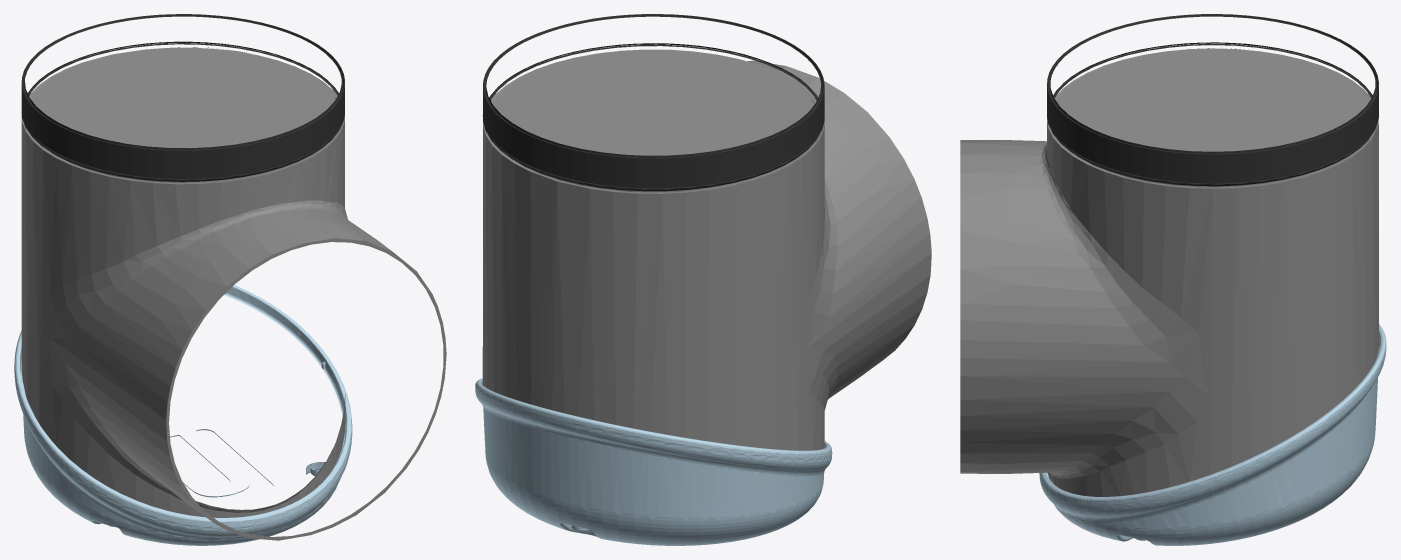
Rendered from wrist1.glb.
The picture shows the model from 3 angles, left to right: view 1: azimuth 30°, elevation 25°; view 2: azimuth 150°, elevation 25°; view 3: azimuth 270°, elevation 25°; orthographic projection. The views are drawn at different scales.
Visible parts, largest first — view 1: eSeries_UR10e_037, eSeries_UR10e_021, eSeries_UR10e_022; view 2: eSeries_UR10e_037, eSeries_UR10e_021, eSeries_UR10e_022; view 3: eSeries_UR10e_037, eSeries_UR10e_021, eSeries_UR10e_022.
Boxes of the visible parts, <box> form: eSeries_UR10e_037: <box>21,47,446,540</box>; eSeries_UR10e_021: <box>14,285,352,545</box>; eSeries_UR10e_022: <box>21,14,344,181</box>; eSeries_UR10e_037: <box>482,49,931,450</box>; eSeries_UR10e_021: <box>475,378,832,545</box>; eSeries_UR10e_022: <box>482,14,824,191</box>; eSeries_UR10e_037: <box>960,48,1379,496</box>; eSeries_UR10e_021: <box>1039,324,1386,545</box>; eSeries_UR10e_022: <box>1047,14,1378,186</box>.
Size of the model in its own units: 0.094 by 0.1241 by 0.1154.
